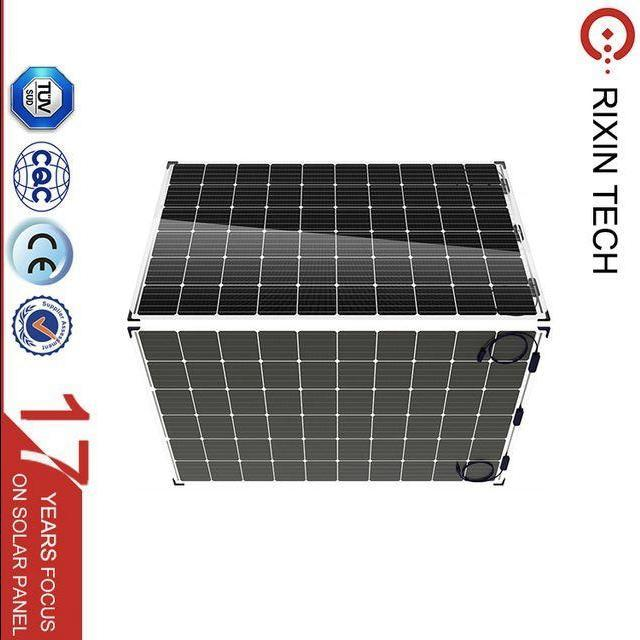no faulty: (132, 162, 537, 315), (128, 332, 535, 482)
